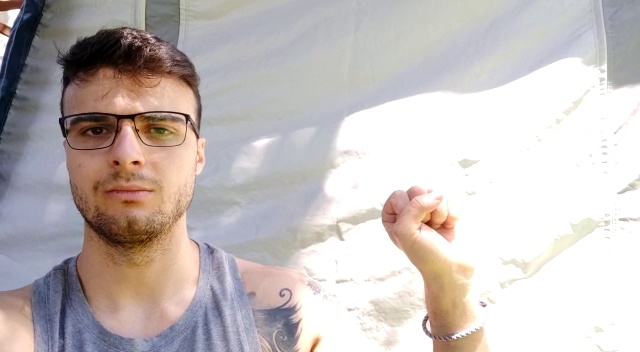Fist: (374, 183, 460, 281)
